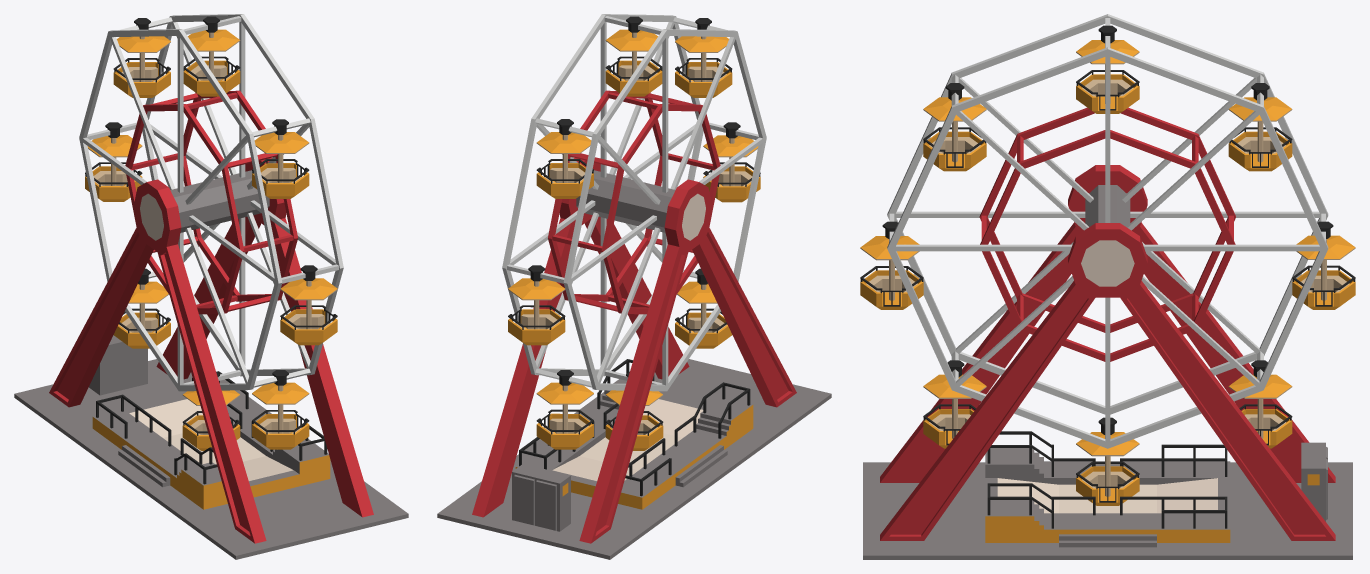
The model's file is buildings_ferris-wheel.fbx.
3 views of the same model, side by side, from view 1: azimuth 30°, elevation 25°; view 2: azimuth 150°, elevation 25°; view 3: azimuth 270°, elevation 25° (orthographic). The views are drawn at different scales.
Parts seen in each view (by area): view 1: ferris_wheel_stand, ferris_wheel_main, ferris_wheel_gondola3, ferris_wheel_gondola2, ferris_wheel_gondola4, ferris_wheel_gondola5, ferris_wheel_gondola6, ferris_wheel_gondola8, ferris_wheel_gondola7, ferris_wheel_gondola1; view 2: ferris_wheel_stand, ferris_wheel_main, ferris_wheel_gondola7, ferris_wheel_gondola8, ferris_wheel_gondola6, ferris_wheel_gondola5, ferris_wheel_gondola4, ferris_wheel_gondola2, ferris_wheel_gondola3, ferris_wheel_gondola1; view 3: ferris_wheel_stand, ferris_wheel_main, ferris_wheel_gondola1, ferris_wheel_gondola5, ferris_wheel_gondola6, ferris_wheel_gondola7, ferris_wheel_gondola4, ferris_wheel_gondola3, ferris_wheel_gondola8, ferris_wheel_gondola2.
Boxes of the visible parts, x1,y1,x2,y2 form: ferris_wheel_stand: (14,153,408,559); ferris_wheel_main: (79,14,343,391); ferris_wheel_gondola3: (280,265,337,345); ferris_wheel_gondola2: (252,370,309,449); ferris_wheel_gondola4: (252,119,309,198); ferris_wheel_gondola5: (183,16,240,96); ferris_wheel_gondola6: (113,18,170,97); ferris_wheel_gondola8: (113,268,170,348); ferris_wheel_gondola7: (85,122,142,201); ferris_wheel_gondola1: (182,371,240,450); ferris_wheel_stand: (437,153,831,559); ferris_wheel_main: (502,14,766,391); ferris_wheel_gondola7: (508,265,565,345); ferris_wheel_gondola8: (536,370,593,449); ferris_wheel_gondola6: (536,119,593,198); ferris_wheel_gondola5: (605,16,662,96); ferris_wheel_gondola4: (675,18,732,97); ferris_wheel_gondola2: (675,268,732,348); ferris_wheel_gondola3: (703,122,760,202); ferris_wheel_gondola1: (605,371,663,450); ferris_wheel_stand: (863,165,1352,559); ferris_wheel_main: (887,14,1328,448); ferris_wheel_gondola1: (1076,417,1139,505); ferris_wheel_gondola5: (1076,25,1139,113); ferris_wheel_gondola6: (1228,83,1292,171); ferris_wheel_gondola7: (1292,221,1355,309); ferris_wheel_gondola4: (923,83,986,171); ferris_wheel_gondola3: (860,221,923,309); ferris_wheel_gondola8: (1228,360,1292,448); ferris_wheel_gondola2: (923,360,986,448).
Size of the model in its own units: 82.54 by 200 by 185.
